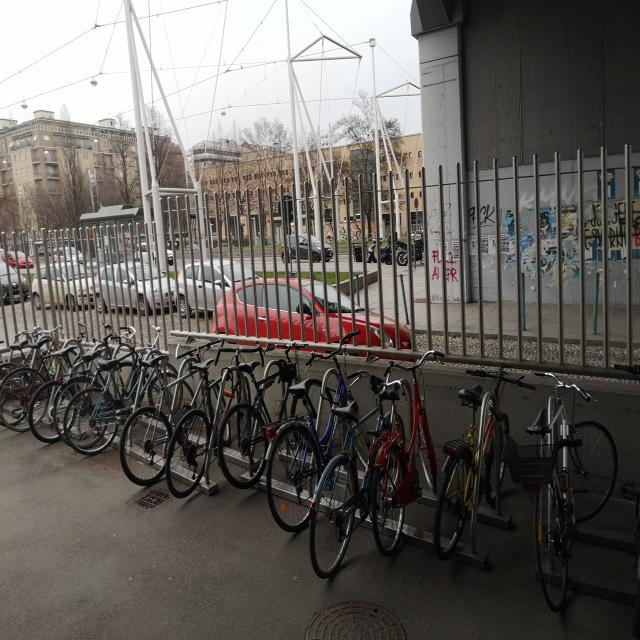Bicycle: (523, 339, 620, 619), (436, 345, 536, 577), (326, 376, 428, 590), (227, 312, 336, 506), (70, 336, 204, 474), (380, 339, 458, 572), (179, 332, 282, 508), (277, 358, 376, 526), (72, 302, 180, 450), (0, 304, 112, 446), (35, 330, 131, 456), (142, 338, 226, 480), (8, 315, 77, 398)
